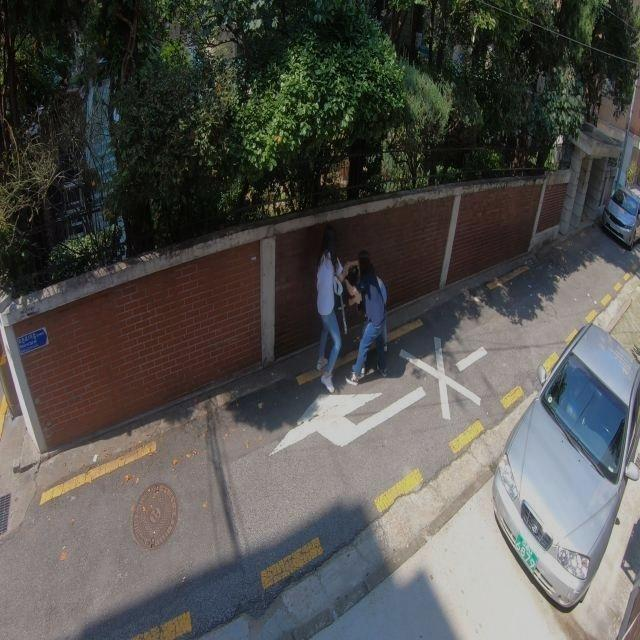fight: (312, 242, 390, 391)
